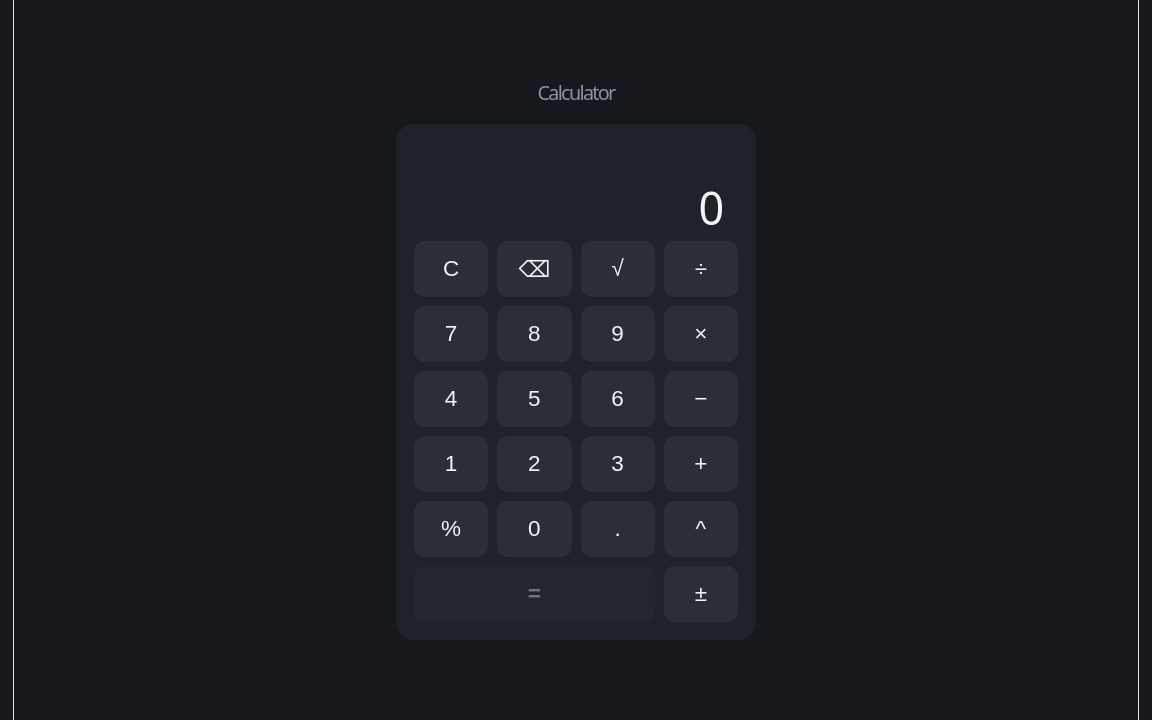
Test: App › computes the pending operation when a second operator is pressed
Type keys "12+5"
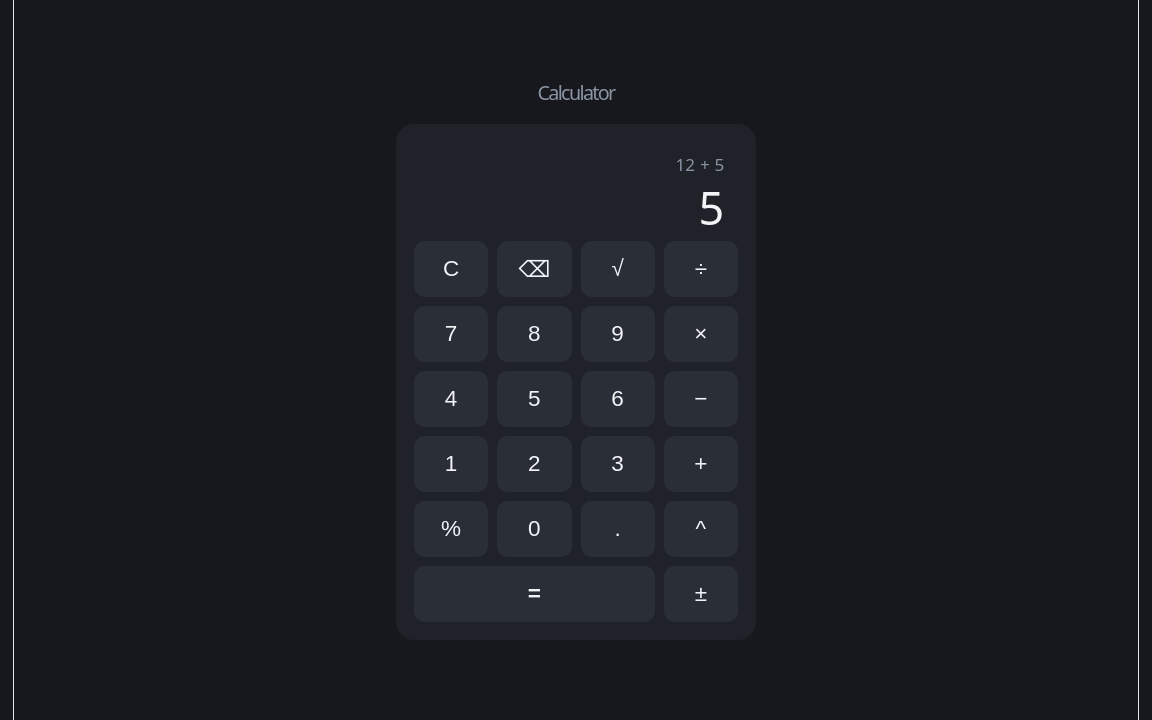
Click the button named "subtract": (701, 399) [664,371,738,427]
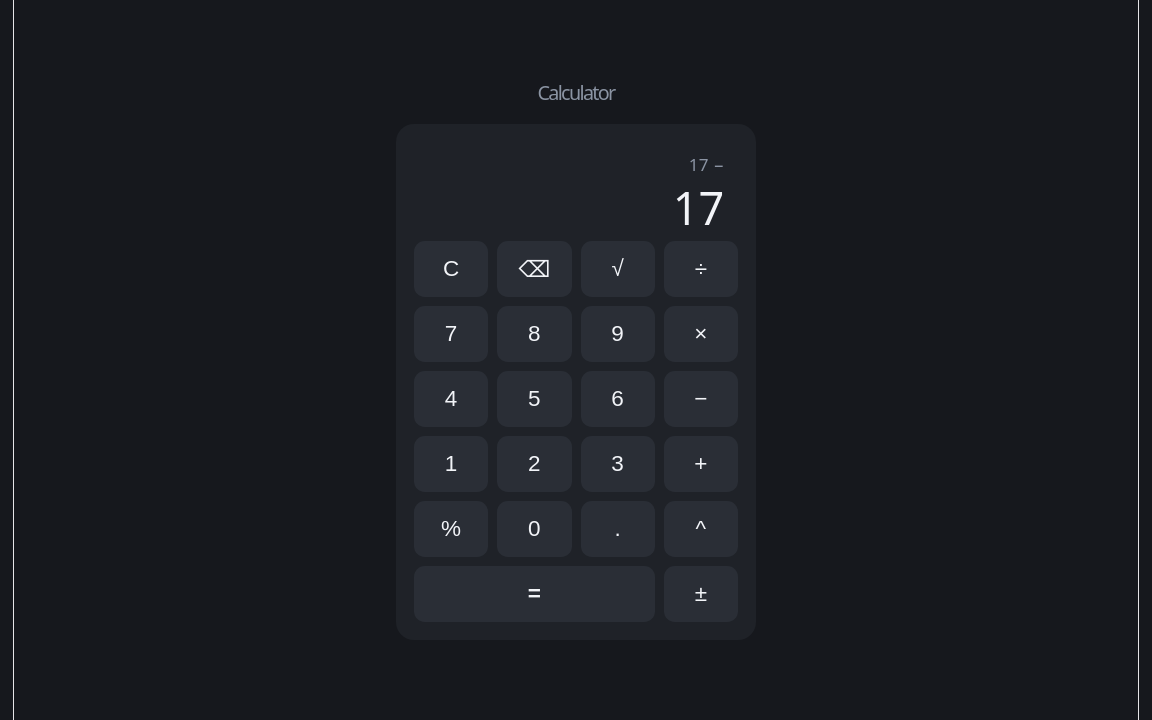
Now the text "17" is shown, box [673,182,724,232]
